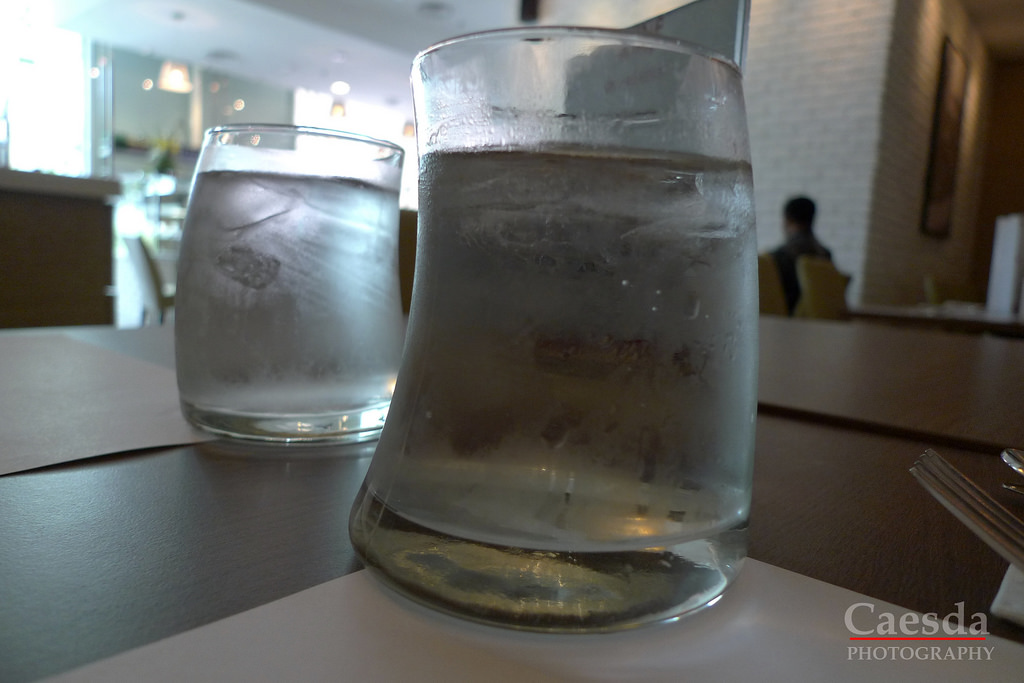glass of water: (424, 43, 711, 592), (193, 118, 381, 443)
